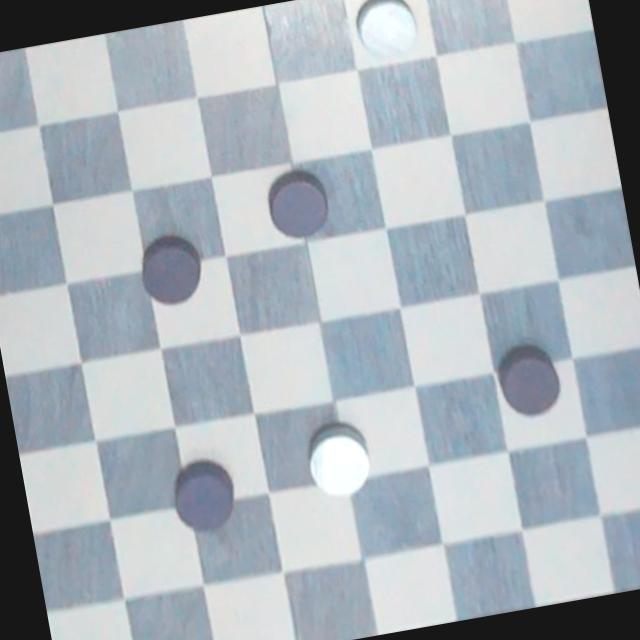BOARD: (0, 0, 640, 640)
black: (154, 442, 247, 543), (254, 156, 348, 242), (488, 328, 570, 426), (124, 228, 211, 312)
white: (294, 415, 382, 504), (349, 0, 433, 61)
